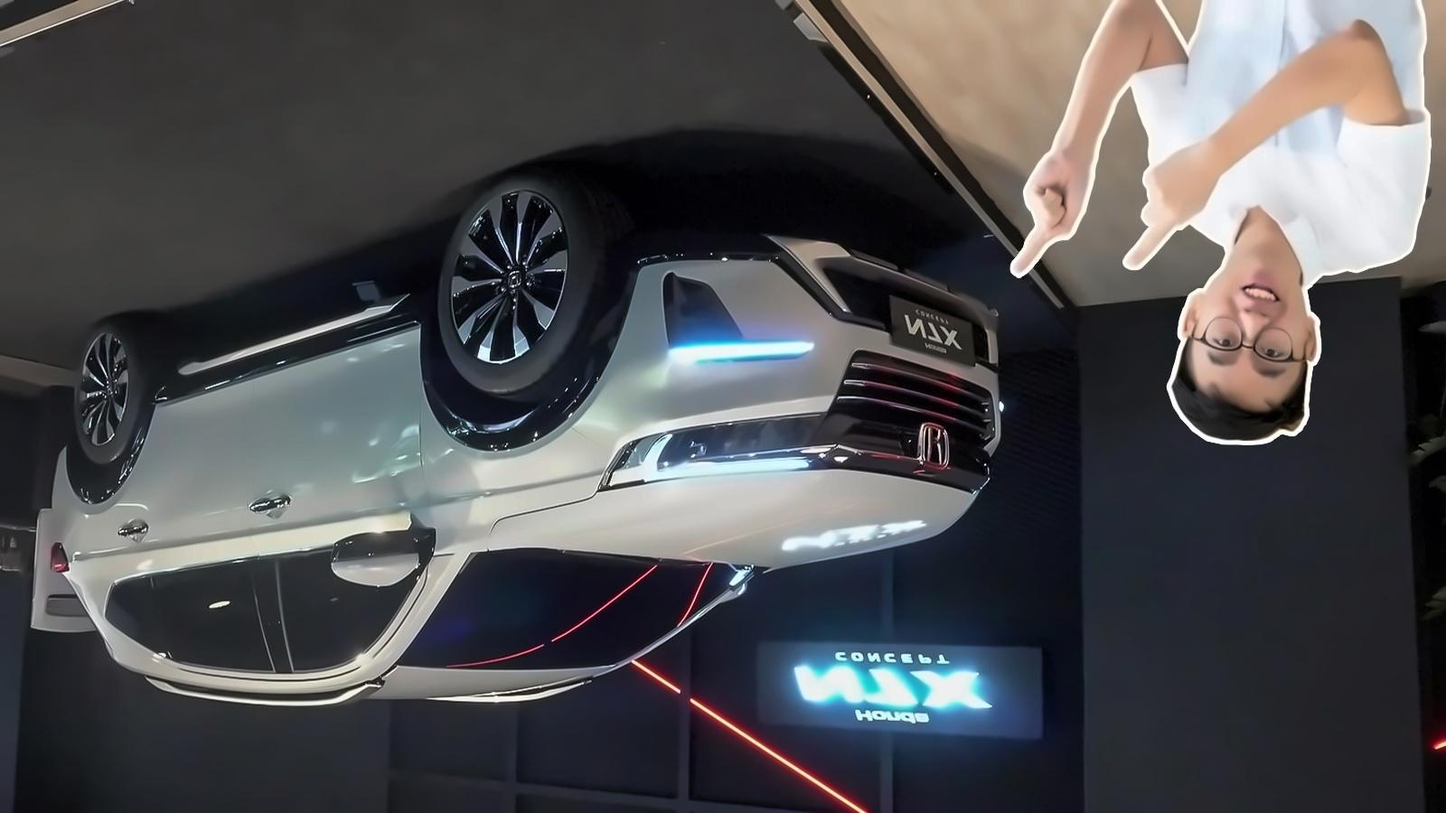Car hood: (480, 467, 982, 571)
Fender - -F-L-: (403, 310, 612, 536)
Fender - -R-L-: (54, 377, 158, 646)
Front bumper: (572, 235, 1014, 459)
Headlight - -L-: (589, 408, 833, 497)
Passenger-s door - -F-L-: (234, 289, 440, 720)
Passenger-s door - -R-L-: (92, 327, 295, 722)
Rear light - -L-: (46, 537, 74, 577)
Side mirror - -L-: (323, 525, 434, 588)
